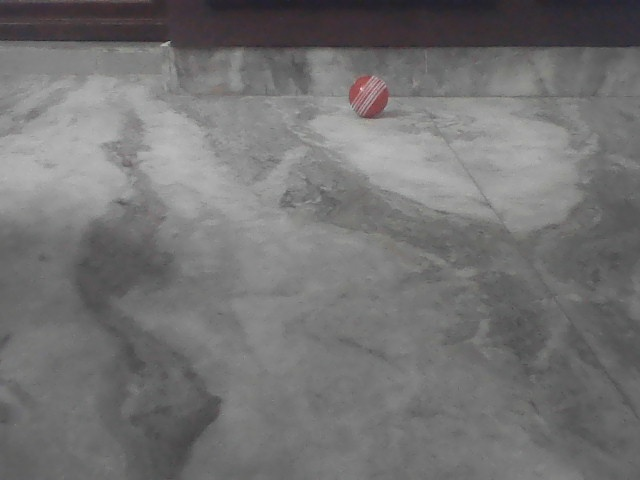cricket_ball: (345, 71, 399, 121)
